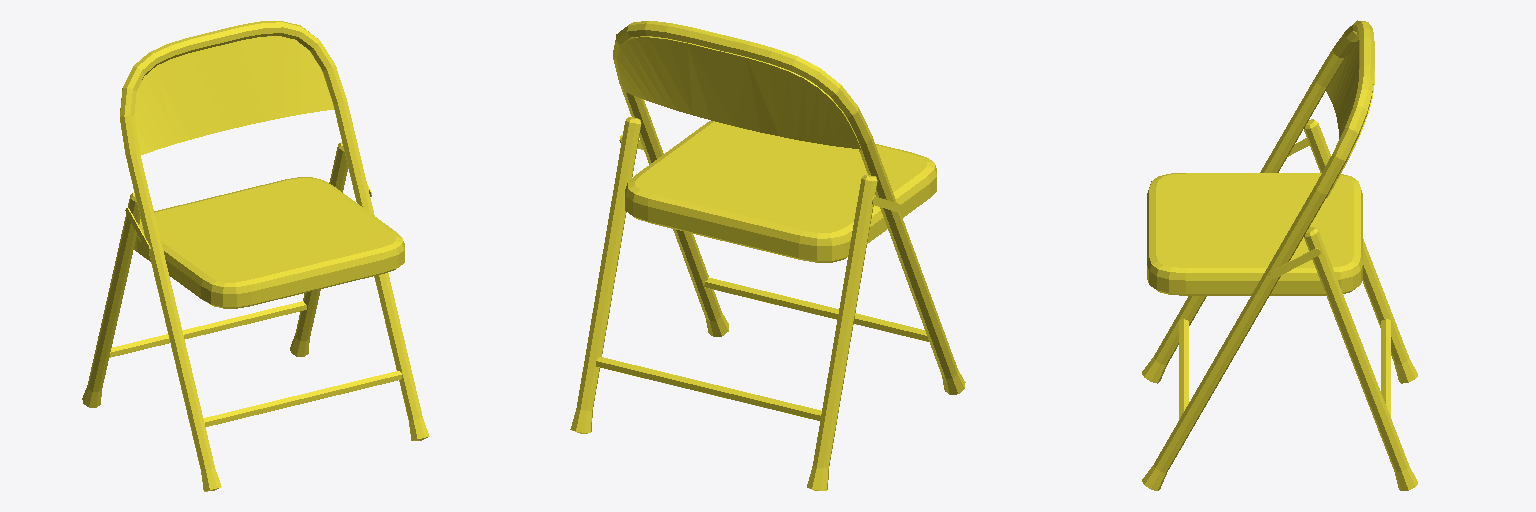
robot.urdf — foldable_chair_gen:
<?xml version="1.0"?>
<robot name="foldable_chair_gen">

  <link name="link_2">
    <inertial>
      <mass value="1.0" /> <inertia ixx="0.01" ixy="0" ixz="0" iyy="0.01" iyz="0" izz="0.01" />
    </inertial>
    <!-- <visual>
      <geometry><sphere radius="0.05"/></geometry>
      <material name="anchor_red"><color rgba="1 0 0 1"/></material>
    </visual> -->
  </link>

  <link name="slide_link_x">
    <inertial>
      <mass value="0.01" />
      <inertia ixx="0.001" ixy="0" ixz="0" iyy="0.001" iyz="0" izz="0.001" />
    </inertial>
  </link>

  <link name="slide_link_y">
    <inertial>
      <mass value="0.01" />
      <inertia ixx="0.001" ixy="0" ixz="0" iyy="0.001" iyz="0" izz="0.001" />
    </inertial>
  </link>


  <joint name="floor_slide_x" type="prismatic">
    <parent link="link_2" />
    <child link="slide_link_x" />
    <axis xyz="1 0 0" />
    <limit lower="-10.0" upper="10.0" effort="1000.0" velocity="5.0" />
    <dynamics damping="10.0" friction="1.0" />
  </joint>

  <joint name="floor_slide_y" type="prismatic">
    <parent link="slide_link_x" />
    <child link="slide_link_y" />
    <axis xyz="0 1 0" />
    <limit lower="-10.0" upper="10.0" effort="1000.0" velocity="5.0" />
    <dynamics damping="10.0" friction="1.0" />
  </joint>

  <joint name="floor_rotate_z" type="continuous">
    <parent link="slide_link_y" />
    <child link="base_link" />
    <axis xyz="0 0 1" />
    <dynamics damping="10.0" friction="1.0" />
  </joint>

  <link name="base_link">
    <visual>
      <origin xyz="0 0 0.0006832693307789943" rpy="1.5708 0 0" />
      <geometry>
        <mesh filename="mesh/foldable_chair.stl" scale="0.02 0.02 0.02" />
      </geometry>
    </visual>
    <collision>
      <origin xyz="0 0 0.0006832693307789943" rpy="1.5708 0 0" />
      <geometry>
        <mesh filename="mesh/foldable_chair.stl" scale="0.02 0.02 0.02" />
      </geometry>
    </collision>
    <inertial>
      <mass value="5.0" />
      <origin xyz="1.2356480307692006e-17 0.04918193924989267 0.5275596101737766" />
      <inertia ixx="0.1" ixy="0" ixz="0" iyy="0.1" iyz="0" izz="0.1" />
    </inertial>
  </link>

  <link name="debug_top_center">
    <!-- <visual>
      <origin xyz="0 0 0" rpy="0 0 0" />
      <geometry><sphere radius="0.04" /></geometry>
      <material name="m_debug_top_center"><color rgba="1 0 0 1" /></material>
    </visual> -->
  </link>
  <joint name="j_debug_top_center" type="fixed">
    <parent link="base_link" />
    <child link="debug_top_center" />
    <origin xyz="0.0 0.29020362379482156 0.9632205982065832" rpy="0 0 0" />
  </joint>

  <link name="target_hand_left">
    <!-- <visual>
      <origin xyz="0 0 0" rpy="0 0 0" />
      <geometry><sphere radius="0.03" /></geometry>
      <material name="m_target_hand_left"><color rgba="1 1 0 1" /></material>
    </visual> -->
  </link>
  <joint name="j_target_hand_left" type="fixed">
    <parent link="base_link" />
    <child link="target_hand_left" />
    <origin xyz="0.15 0.29020362379482156 0.9632205982065832" rpy="0 0 -1.5708" />
  </joint>

  <link name="target_hand_right">
    <!-- <visual>
      <origin xyz="0 0 0" rpy="0 0 0" />
      <geometry><sphere radius="0.03" /></geometry>
      <material name="m_target_hand_right"><color rgba="1 1 0 1" /></material>
    </visual> -->
  </link>
  <joint name="j_target_hand_right" type="fixed">
    <parent link="base_link" />
    <child link="target_hand_right" />
    <origin xyz="-0.15 0.29020362379482156 0.9632205982065832" rpy="0 0 -1.5708" />
  </joint>

  <link name="debug_com">
    <!-- <visual>
      <origin xyz="0 0 0" rpy="0 0 0" />
      <geometry><sphere radius="0.05" /></geometry>
      <material name="m_debug_com"><color rgba="0 0 1 1" /></material>
    </visual> -->
  </link>
  <joint name="j_debug_com" type="fixed">
    <parent link="base_link" />
    <child link="debug_com" />
    <origin xyz="1.2356480307692006e-17 0.04918193924989267 0.5275596101737766" rpy="0 0 0" />
  </joint>

  <link name="debug_vec">
    <!-- <visual>
      <origin xyz="0 0 0" rpy="0 0 0" />
      <geometry><cylinder radius="0.01" length="0.5" /></geometry>
      <material name="m_debug_vec"><color rgba="0 0 1 0.5" /></material>
    </visual> -->
  </link>
  <joint name="j_debug_vec" type="fixed">
    <parent link="base_link" />
    <child link="debug_vec" />
    <origin xyz="1.2356480307692006e-17 0.04918193924989267 0.7775596101737766" rpy="0 0 0" />
  </joint>

  <link name="debug_foot_0">
    <!-- <visual>
      <origin xyz="0 0 0" rpy="0 0 0" />
      <geometry><sphere radius="0.04" /></geometry>
      <material name="m_debug_foot_0"><color rgba="0 1 0 1" /></material>
    </visual> -->
  </link>
  <joint name="j_debug_foot_0" type="fixed">
    <parent link="base_link" />
    <child link="debug_foot_0" />
    <origin xyz="-0.299405804225286 -0.22087093938440658 0.0" rpy="0 0 0" />
  </joint>

  <link name="debug_foot_1">
    <!-- <visual>
      <origin xyz="0 0 0" rpy="0 0 0" />
      <geometry><sphere radius="0.04" /></geometry>
      <material name="m_debug_foot_1"><color rgba="0 1 0 1" /></material>
    </visual> -->
  </link>
  <joint name="j_debug_foot_1" type="fixed">
    <parent link="base_link" />
    <child link="debug_foot_1" />
    <origin xyz="-0.29914276140104434 0.3832650628893974 0.000839614003599516" rpy="0 0 0" />
  </joint>

  <link name="debug_foot_2">
    <!-- <visual>
      <origin xyz="0 0 0" rpy="0 0 0" />
      <geometry><sphere radius="0.04" /></geometry>
      <material name="m_debug_foot_2"><color rgba="0 1 0 1" /></material>
    </visual> -->
  </link>
  <joint name="j_debug_foot_2" type="fixed">
    <parent link="base_link" />
    <child link="debug_foot_2" />
    <origin xyz="0.299405804225286 -0.22087093938440655 0.0" rpy="0 0 0" />
  </joint>

  <link name="debug_foot_3">
    <!-- <visual>
      <origin xyz="0 0 0" rpy="0 0 0" />
      <geometry><sphere radius="0.04" /></geometry>
      <material name="m_debug_foot_3"><color rgba="0 1 0 1" /></material>
    </visual> -->
  </link>
  <joint name="j_debug_foot_3" type="fixed">
    <parent link="base_link" />
    <child link="debug_foot_3" />
    <origin xyz="0.29914276140104434 0.3832650628893974 0.000839614003599516" rpy="0 0 0" />
  </joint>

</robot>

--- Render facts (derived) ---
The picture shows the robot from 3 angles, left to right: view 1: azimuth 30°, elevation 25°; view 2: azimuth 150°, elevation 25°; view 3: azimuth 270°, elevation 25°; orthographic projection.
Model foldable_chair_gen with 13 links and 12 joints (1 continuous, 2 prismatic, 9 fixed), rooted at link_2, posed every joint at zero.
Links seen in each view (by area): view 1: base_link; view 2: base_link; view 3: base_link.
Boxes of the visible links, bbox=[...] form: base_link: bbox=[82, 21, 429, 491]; base_link: bbox=[570, 21, 965, 490]; base_link: bbox=[1142, 20, 1417, 490].
Bounding box of the posed robot: 0.6512 × 0.6533 × 1 m (x, y, z).
1 mesh visuals loaded from 1 distinct referenced files (1 binary STL).
